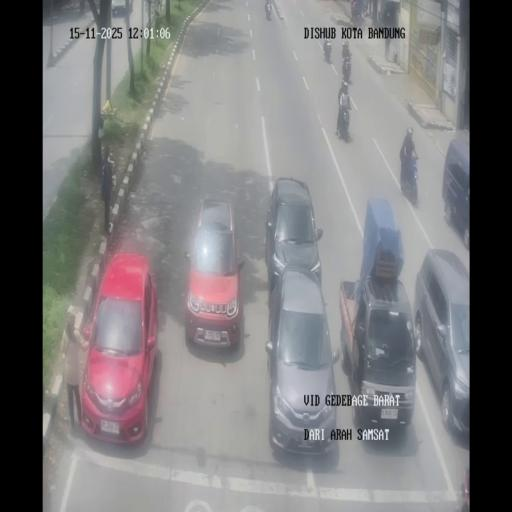car: (79, 251, 158, 445), (266, 268, 339, 459), (338, 270, 416, 436), (413, 251, 469, 439), (441, 138, 470, 248)
motorcycle: (400, 148, 418, 202), (337, 103, 350, 141), (343, 54, 352, 80), (341, 39, 350, 60), (324, 44, 332, 64), (350, 0, 357, 19), (266, 3, 272, 20), (362, 0, 368, 16), (377, 9, 383, 23)
truck: (111, 3, 129, 17)
